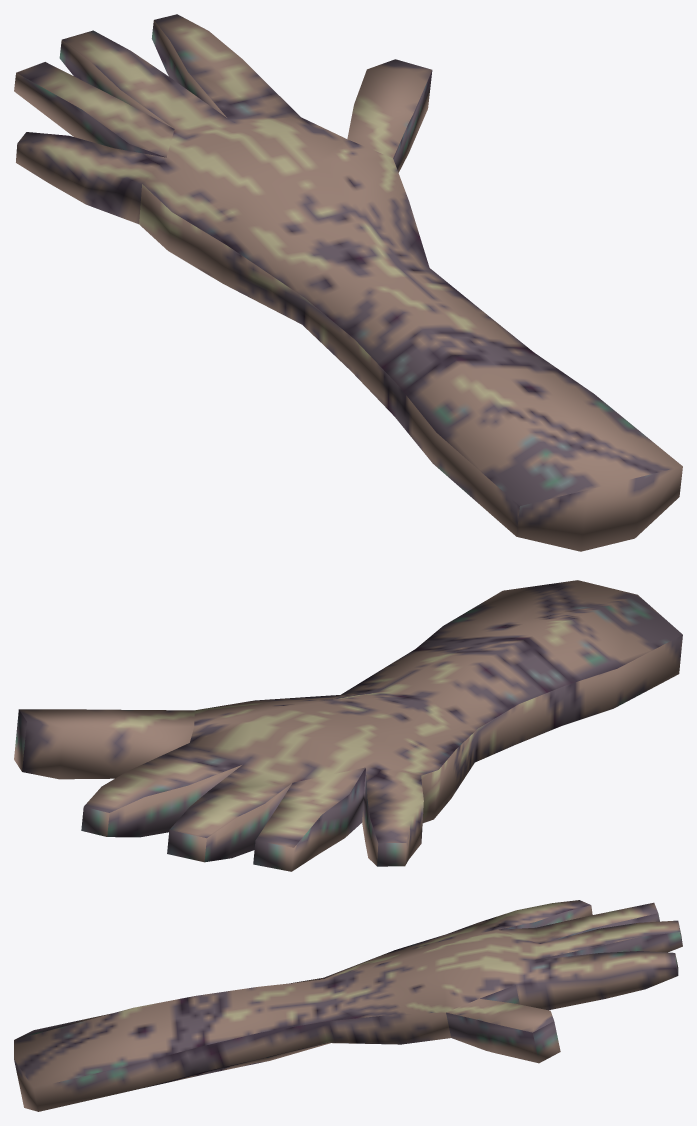
Rendered from hand.dae.
The picture shows the model from 3 angles, top to bottom: view 1: azimuth 30°, elevation 25°; view 2: azimuth 150°, elevation 25°; view 3: azimuth 270°, elevation 25°; orthographic projection. The views are drawn at different scales.
Parts seen in each view (by area): view 1: Cube1-0; view 2: Cube1-0; view 3: Cube1-0.
Part boxes in pixels (x1,y1,x2,y2): Cube1-0: (14, 14, 682, 551); Cube1-0: (14, 580, 682, 871); Cube1-0: (14, 900, 682, 1111).
Size of the model in its own units: 8.67 by 4.3 by 18.08.
Materials: 1 (1 with a texture image).
